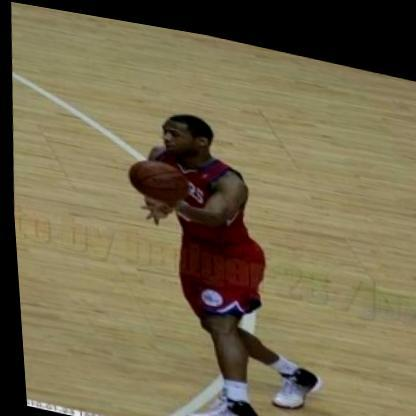basketball: (125, 149, 182, 199)
